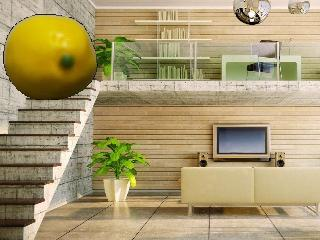lemon: (3, 15, 97, 100)
